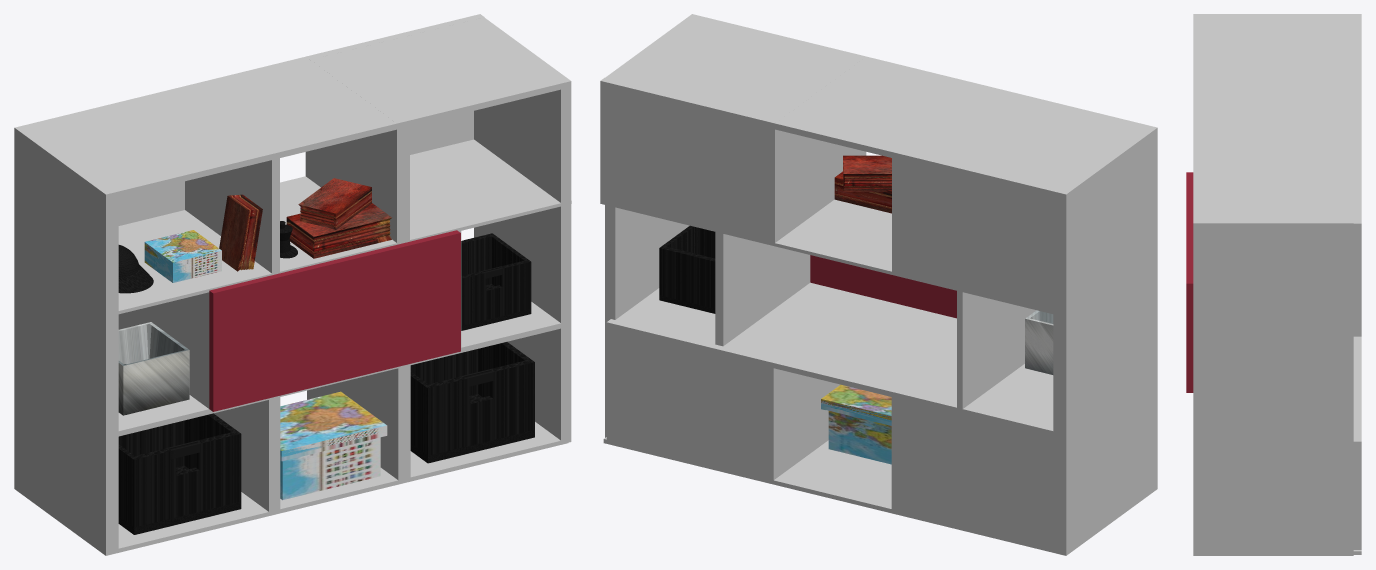
File: shelf9.glb
The picture shows the model from 3 angles, left to right: view 1: azimuth 30°, elevation 25°; view 2: azimuth 150°, elevation 25°; view 3: azimuth 270°, elevation 25°; orthographic projection. The views are drawn at different scales.
Visible parts, largest first — view 1: schrank_0, object 13, object 10, object 12, Box mit Deckel_8, Box klein_10, Geldbox_7, Buch 1_3, Spiel_2, Buch 2_4, Buch 3_5, Cap_1; view 2: schrank_0, Box mit Deckel_8, Box klein_10, object 13, Buch 3_5, Geldbox_7, Buch 1_3; view 3: schrank_0, object 13.
Part boxes in pixels (x1,y1,x2,y2): schrank_0: [14, 14, 571, 555]; object 13: [209, 230, 460, 411]; object 10: [410, 342, 534, 463]; object 12: [118, 413, 241, 534]; Box mit Deckel_8: [280, 391, 387, 500]; Box klein_10: [461, 233, 531, 330]; Geldbox_7: [118, 322, 189, 415]; Buch 1_3: [286, 203, 391, 258]; Spiel_2: [144, 230, 221, 282]; Buch 2_4: [219, 194, 262, 271]; Buch 3_5: [298, 178, 371, 229]; Cap_1: [118, 245, 153, 293]; schrank_0: [600, 14, 1157, 555]; Box mit Deckel_8: [821, 384, 891, 464]; Box klein_10: [659, 225, 715, 313]; object 13: [810, 255, 956, 318]; Buch 3_5: [843, 155, 891, 191]; Geldbox_7: [1025, 310, 1053, 374]; Buch 1_3: [834, 171, 891, 213]; schrank_0: [1193, 14, 1361, 555]; object 13: [1186, 172, 1193, 392].
Size of the model in its own units: 18.95 by 14.05 by 6.71.
Materials: 6 (4 with a texture image).
